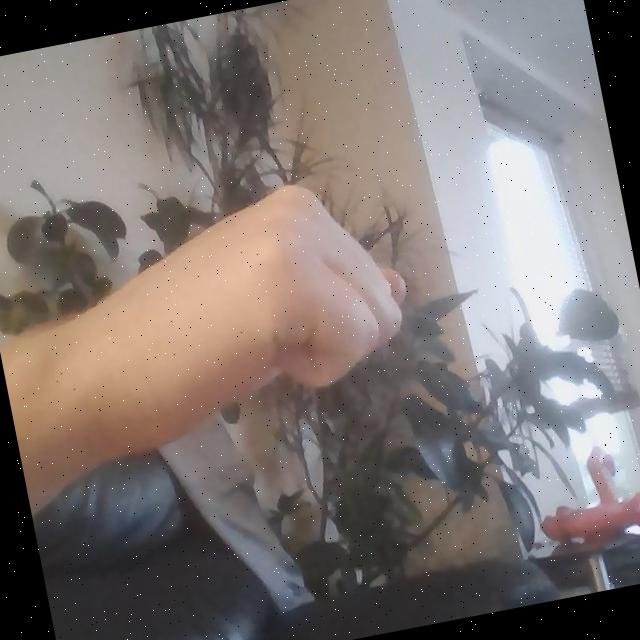rock: (98, 163, 432, 459)
